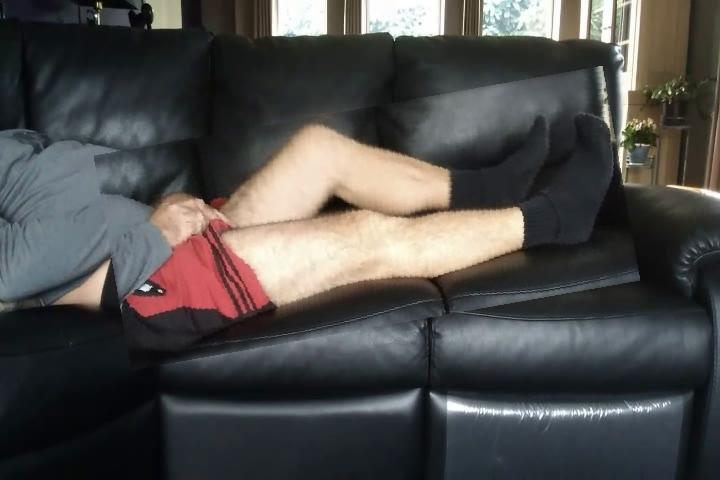lower_body: (101, 88, 634, 350)
